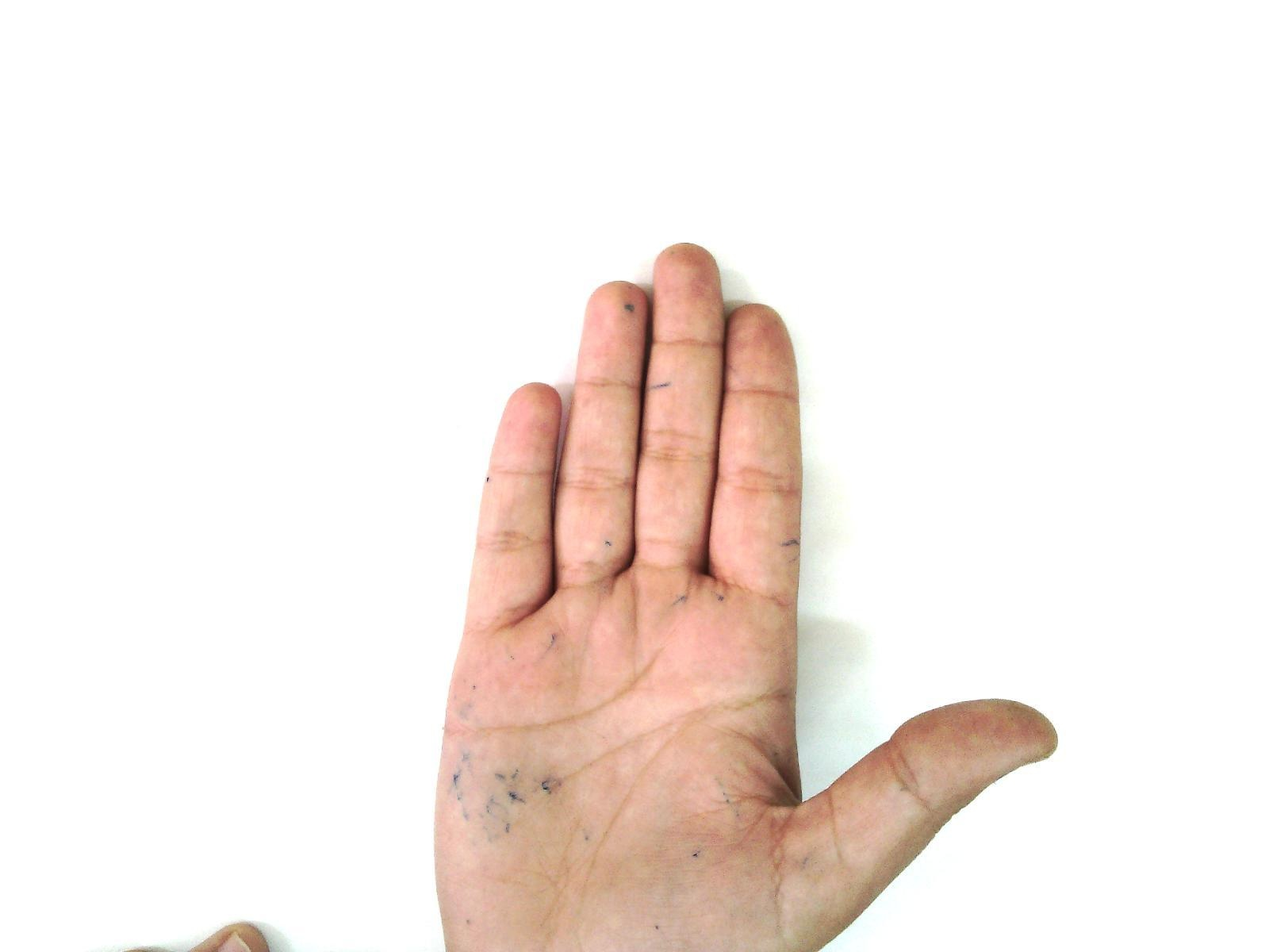open_palm: (431, 240, 1061, 952)
